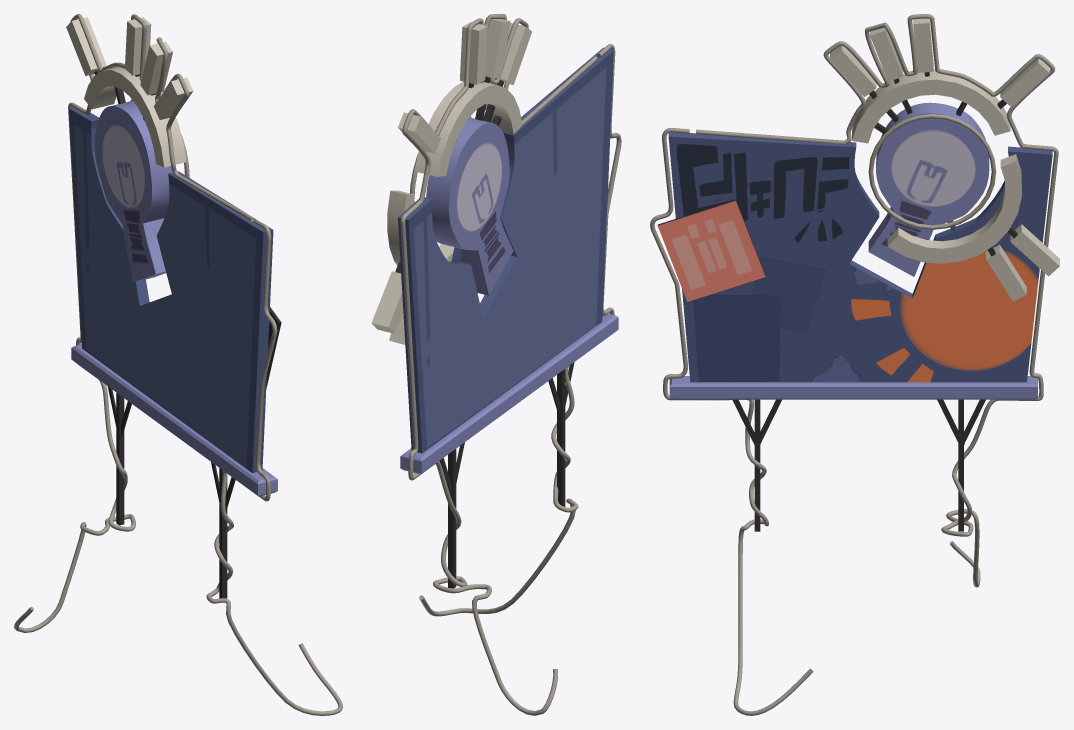
The model's file is m_pillier.FBX.
The picture shows the model from 3 angles, left to right: view 1: azimuth 30°, elevation 25°; view 2: azimuth 150°, elevation 25°; view 3: azimuth 270°, elevation 25°; orthographic projection. The views are drawn at different scales.
Visible parts, largest first — view 1: panneau_export; view 2: panneau_export; view 3: panneau_export.
Part boxes in pixels (x1,y1,x2,y2): panneau_export: (14,14,342,715); panneau_export: (371,14,621,715); panneau_export: (650,14,1059,715).
Size of the model in its own units: 2.14 by 6.2 by 3.56.
